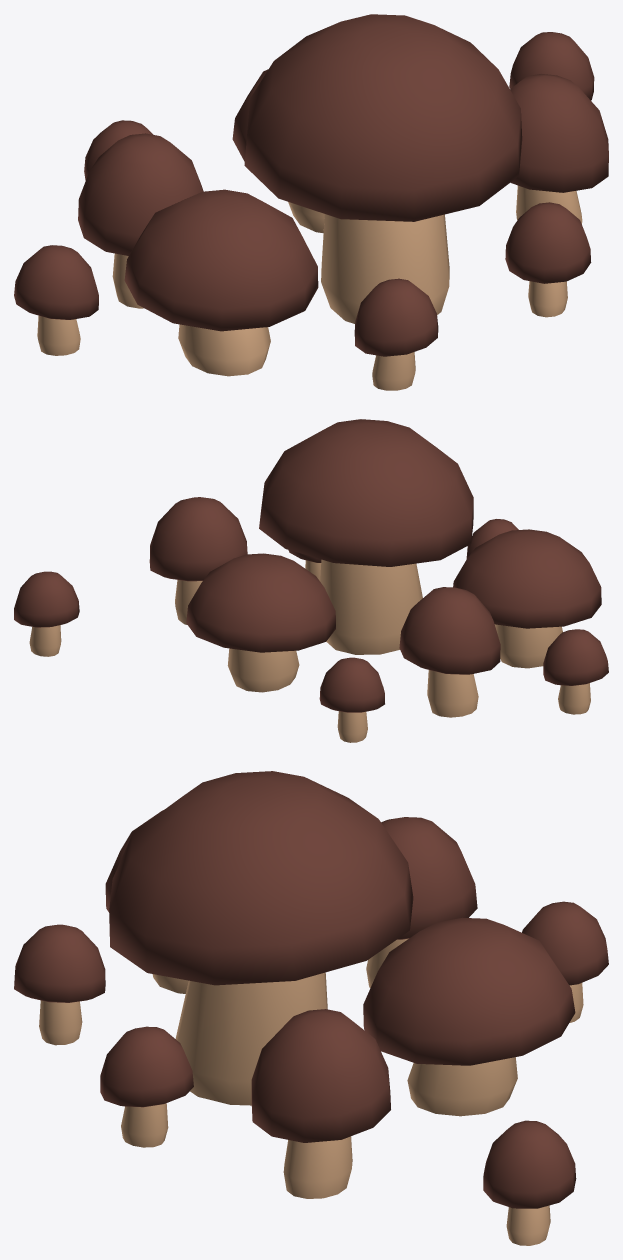
File: s_mushroom.fbx
3 views of the same model, one above another, from view 1: azimuth 30°, elevation 25°; view 2: azimuth 150°, elevation 25°; view 3: azimuth 270°, elevation 25° (orthographic). The views are drawn at different scales.
Visible parts, largest first — view 1: mushroom_full, mushroom_empty; view 2: mushroom_full, mushroom_empty; view 3: mushroom_full, mushroom_empty.
Boxes of the visible parts, x1,y1,x2,y2 form: mushroom_full: [124, 14, 522, 376]; mushroom_empty: [14, 32, 608, 390]; mushroom_full: [186, 419, 601, 692]; mushroom_empty: [14, 497, 608, 742]; mushroom_full: [105, 771, 575, 1116]; mushroom_empty: [14, 817, 608, 1245].
Size of the model in its own units: 198 by 140 by 76.26.
